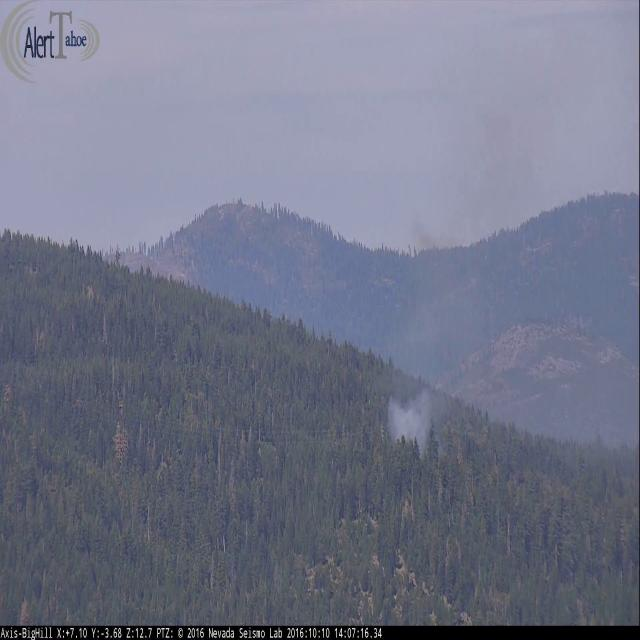smoke: (383, 367, 456, 465)
